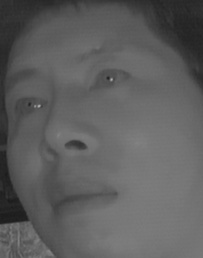eye: (86, 65, 134, 97), (10, 94, 51, 123)
mouth: (40, 176, 118, 224)
